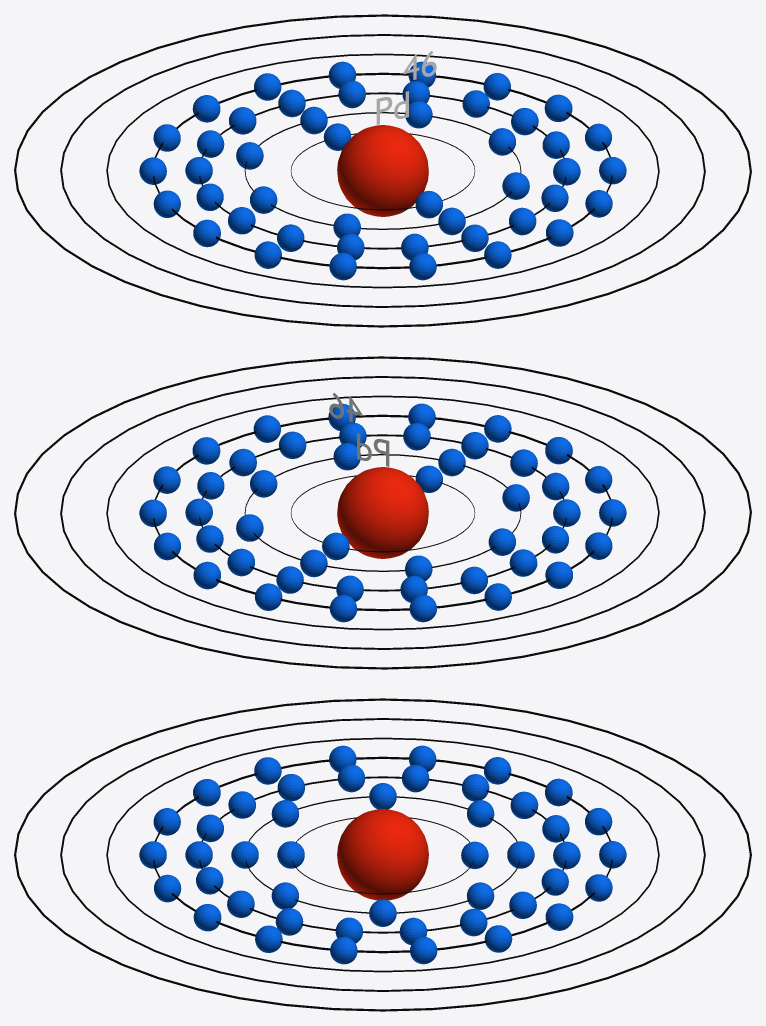
3 views of the same model, one above another, from view 1: azimuth 30°, elevation 25°; view 2: azimuth 150°, elevation 25°; view 3: azimuth 270°, elevation 25° (orthographic).
Visible parts, largest first — view 1: Pd3, Pd4, Proton, Pd2, n7, n6, n5, n4, Pd1, n3, n2; view 2: Pd3, Pd4, Proton, Pd2, n7, n6, n5, n4, Pd1, n3, n2; view 3: Pd4, Pd3, Proton, Pd2, n7, n6, n5, n4, Pd1, n3, n2, n1.
Boxes of the visible parts, x1=… form: Pd3: x1=185, y1=80, x2=580, y2=260; Pd4: x1=139, y1=61, x2=626, y2=280; Proton: x1=337, y1=125, x2=428, y2=216; Pd2: x1=236, y1=101, x2=529, y2=238; n7: x1=14, y1=14, x2=751, y2=327; n6: x1=60, y1=34, x2=705, y2=307; n5: x1=106, y1=53, x2=659, y2=288; n4: x1=153, y1=72, x2=612, y2=269; Pd1: x1=323, y1=123, x2=442, y2=218; n3: x1=199, y1=92, x2=566, y2=249; n2: x1=244, y1=112, x2=521, y2=229; Pd3: x1=185, y1=422, x2=580, y2=602; Pd4: x1=139, y1=403, x2=626, y2=622; Proton: x1=337, y1=467, x2=428, y2=558; Pd2: x1=236, y1=443, x2=529, y2=580; n7: x1=14, y1=356, x2=751, y2=669; n6: x1=60, y1=376, x2=705, y2=649; n5: x1=106, y1=395, x2=659, y2=630; n4: x1=153, y1=414, x2=612, y2=611; Pd1: x1=322, y1=465, x2=442, y2=560; n3: x1=199, y1=434, x2=566, y2=591; n2: x1=244, y1=454, x2=521, y2=571; Pd4: x1=139, y1=745, x2=626, y2=964; Pd3: x1=185, y1=764, x2=580, y2=944; Proton: x1=337, y1=809, x2=428, y2=900; Pd2: x1=231, y1=783, x2=534, y2=926; n7: x1=14, y1=698, x2=751, y2=1011; n6: x1=60, y1=718, x2=705, y2=991; n5: x1=106, y1=737, x2=659, y2=972; n4: x1=153, y1=756, x2=612, y2=953; Pd1: x1=277, y1=841, x2=488, y2=869; n3: x1=199, y1=776, x2=566, y2=933; n2: x1=245, y1=796, x2=520, y2=913; n1: x1=292, y1=817, x2=473, y2=894.
Bounding box in the file's own units: 802 × 180 × 802.
